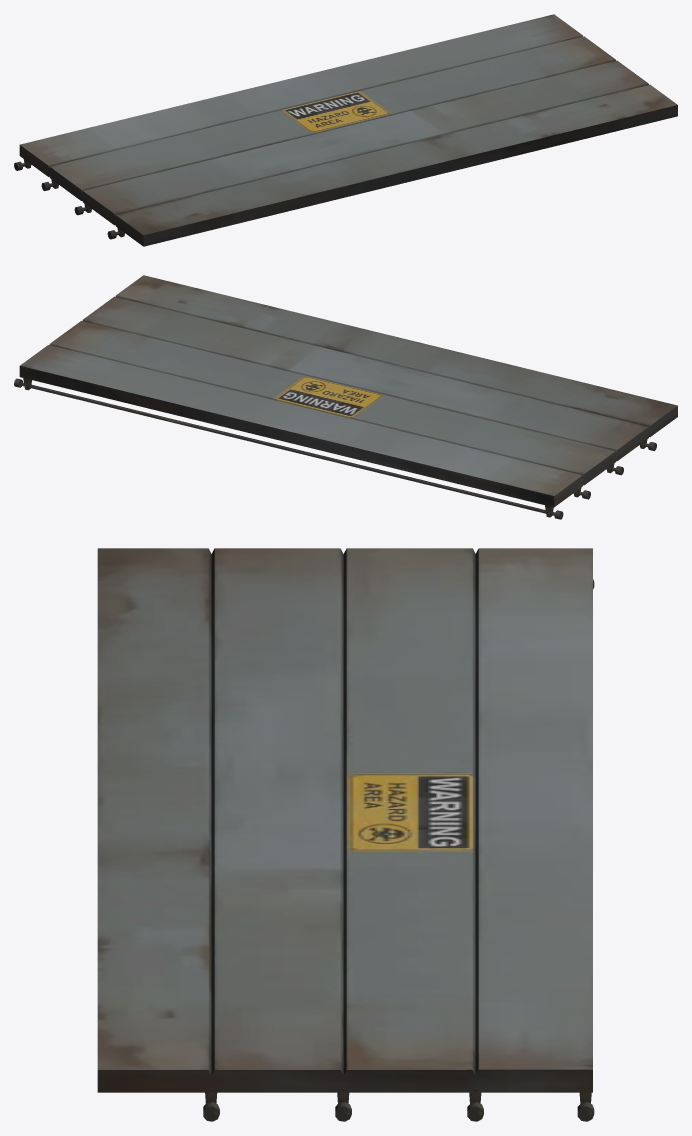
3 renders of one model, top to bottom at view 1: azimuth 30°, elevation 25°; view 2: azimuth 150°, elevation 25°; view 3: azimuth 270°, elevation 25°, orthographic. The views are drawn at different scales.
Visible parts, largest first — view 1: body0_model0_lod0_mesh0; view 2: body0_model0_lod0_mesh0; view 3: body0_model0_lod0_mesh0.
Boxes of the visible parts, <box> form: body0_model0_lod0_mesh0: <box>14,14,677,246</box>; body0_model0_lod0_mesh0: <box>14,275,677,519</box>; body0_model0_lod0_mesh0: <box>97,548,594,1121</box>.
Bounding box in the file's own units: 305 × 12.51 × 120.
Materials: 1 (1 with a texture image).
